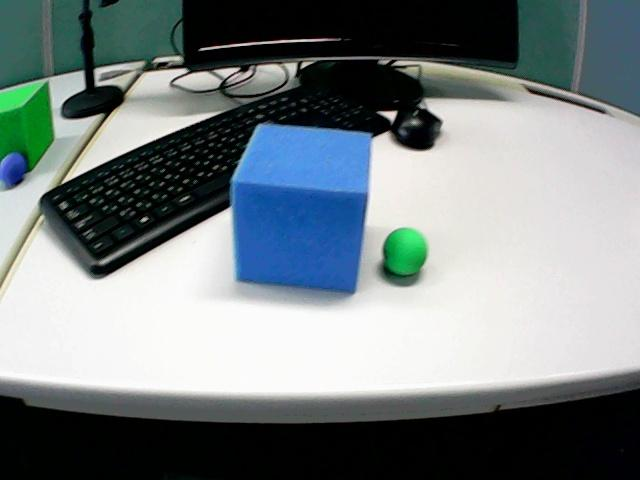blue_block: (231, 124, 370, 291)
